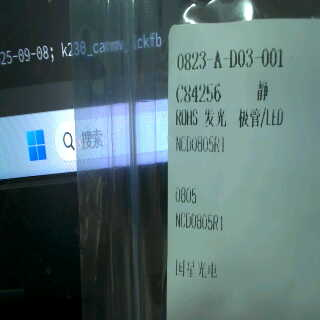LED: (202, 105, 282, 129)
